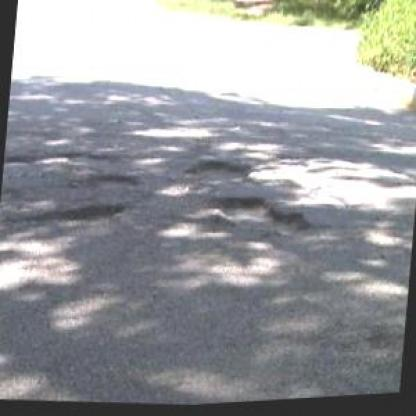pothole: (212, 188, 312, 242), (60, 197, 128, 230), (186, 155, 255, 183)
